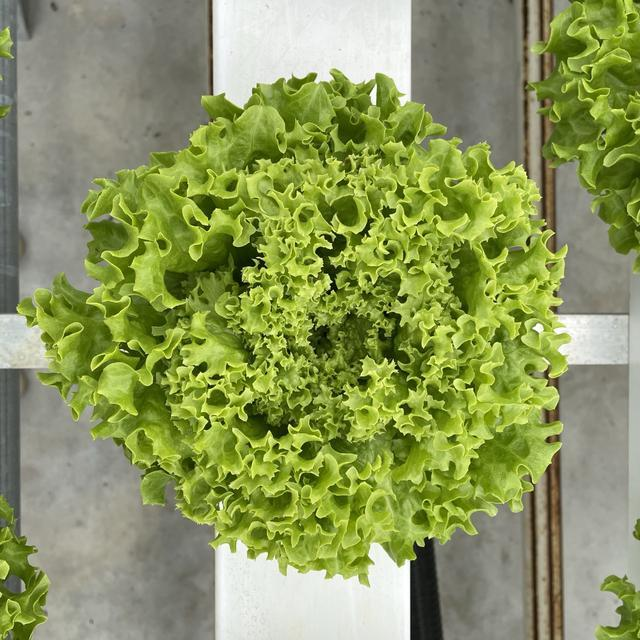Lettuce: (25, 66, 572, 586), (530, 0, 640, 256), (0, 500, 50, 640), (593, 570, 640, 640)
